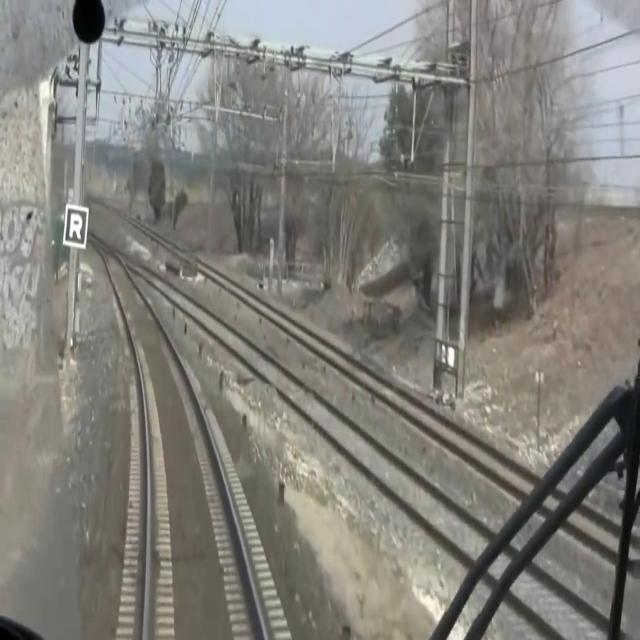rail-track: (116, 251, 486, 558), (122, 215, 529, 491), (89, 233, 263, 639)
